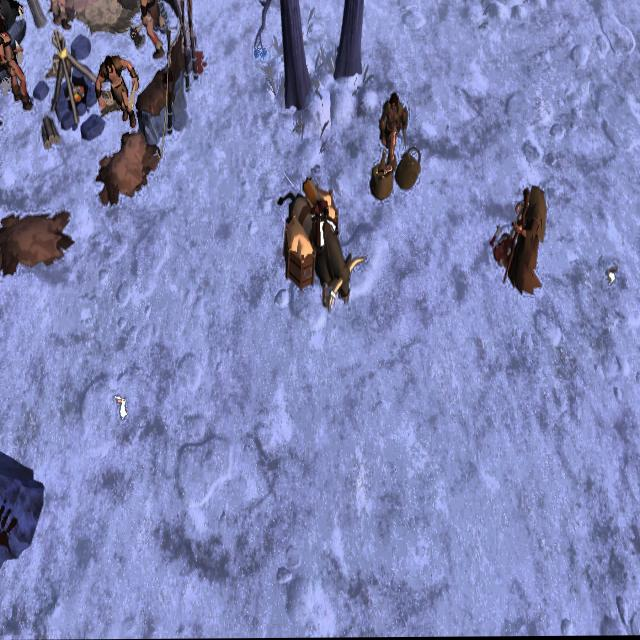enemy_factionKeeper: (506, 180, 551, 300), (97, 55, 141, 132), (0, 20, 32, 108), (380, 88, 410, 164), (135, 0, 167, 57)
